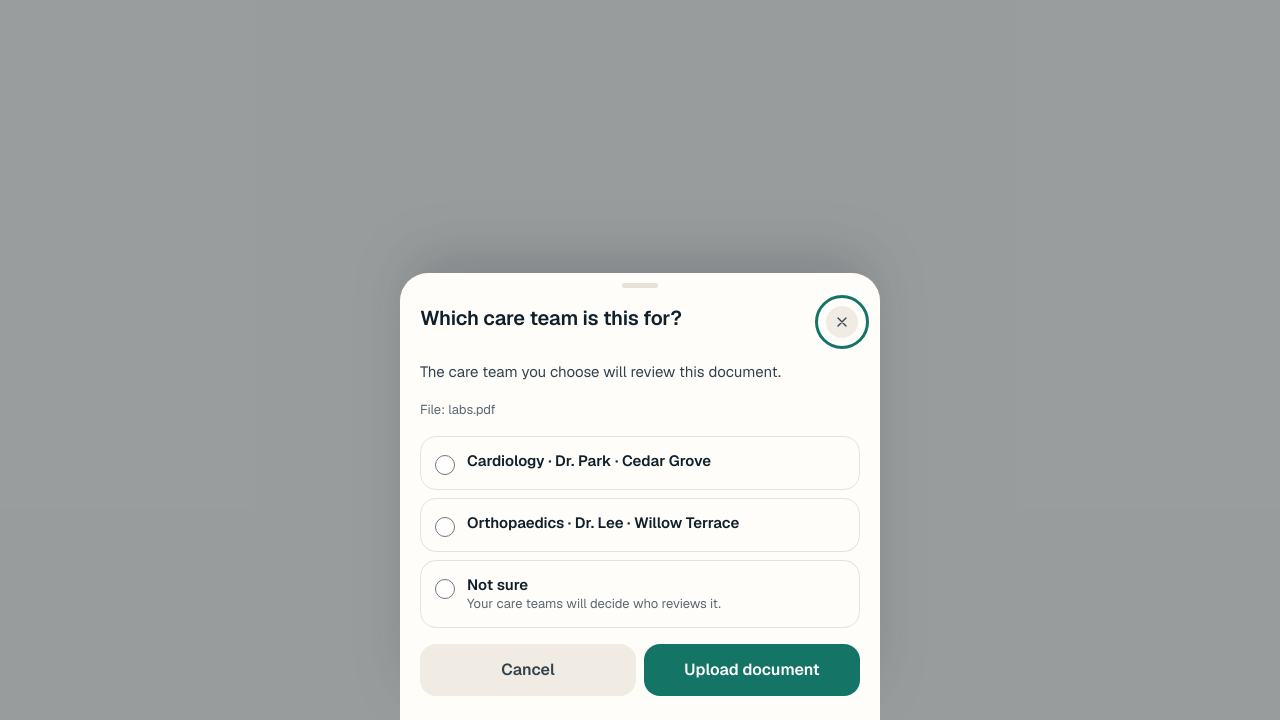
Test: UploadCareTeamPicker › requires a choice before uploading
Expected: the dialog "Which care team is this for?" is shown, 400,273 -> 880,719
Click the button "Upload document". click: (752, 670)
box: 644,644 -> 860,696
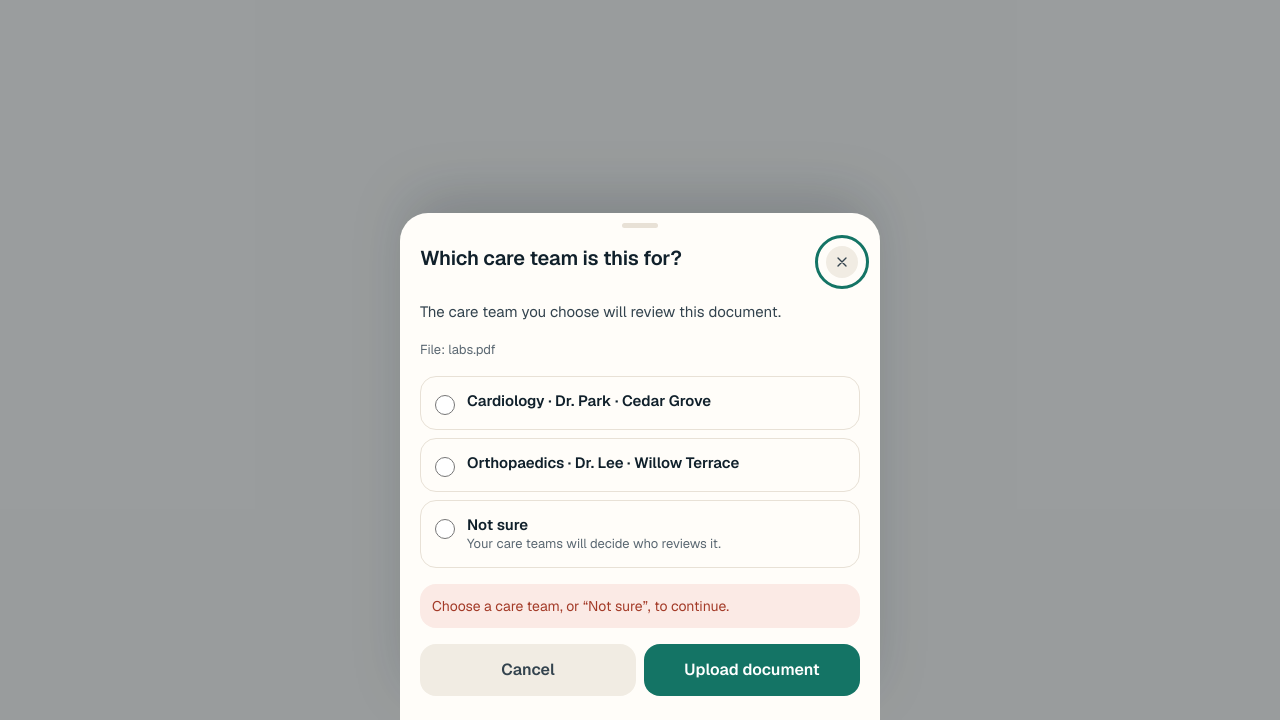
Result: the message reads "Choose a care team, or “Not sure”, to continue." at 432,597 -> 729,615
